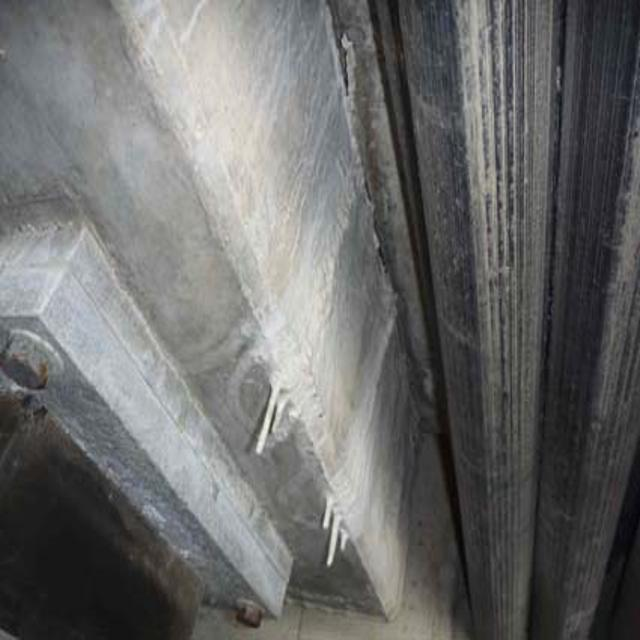freelime: (250, 215, 390, 554)
